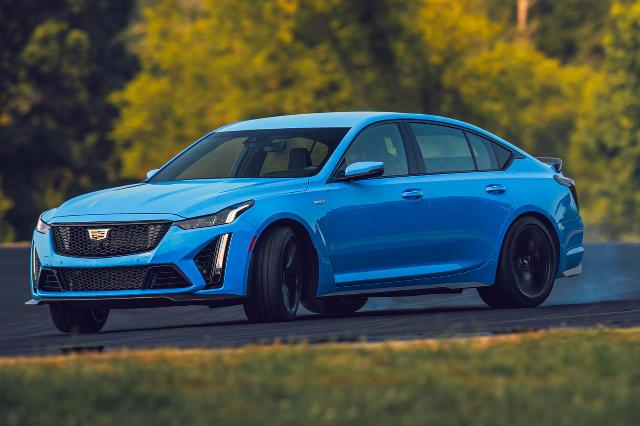cadillac: (29, 110, 585, 334)
